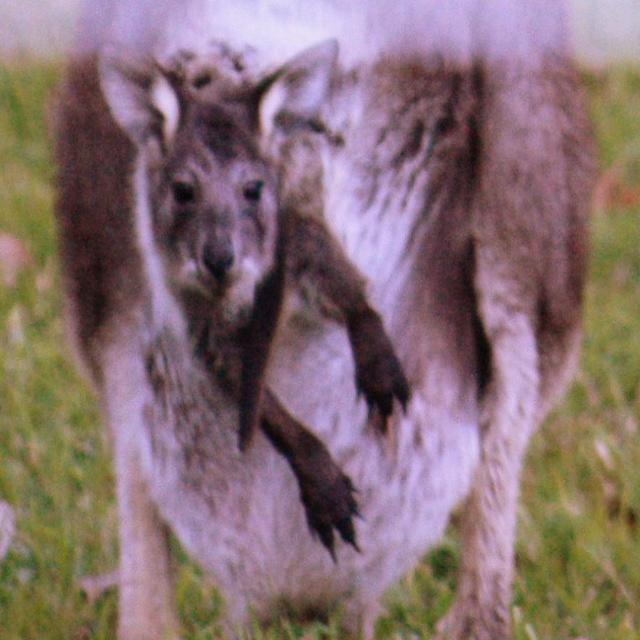Kangaroo: (43, 0, 602, 637)
